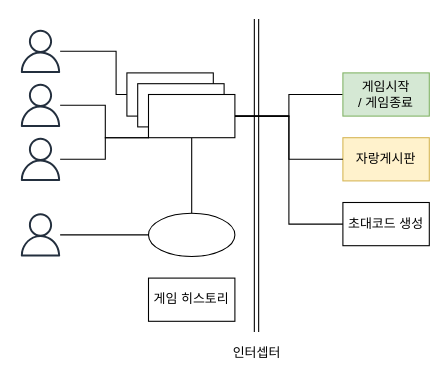
This 448x383 diagram has some shape labels left out. The centre of each missing label's shape, as x and y in pixels:
"게임" goes at (191,115).
"초대코드" goes at (191,234).
